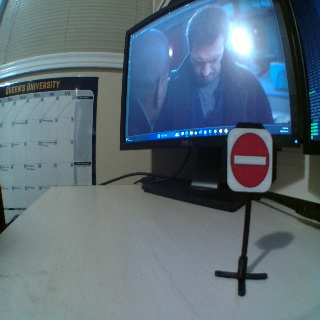sign_noentry: (227, 128, 271, 191)
